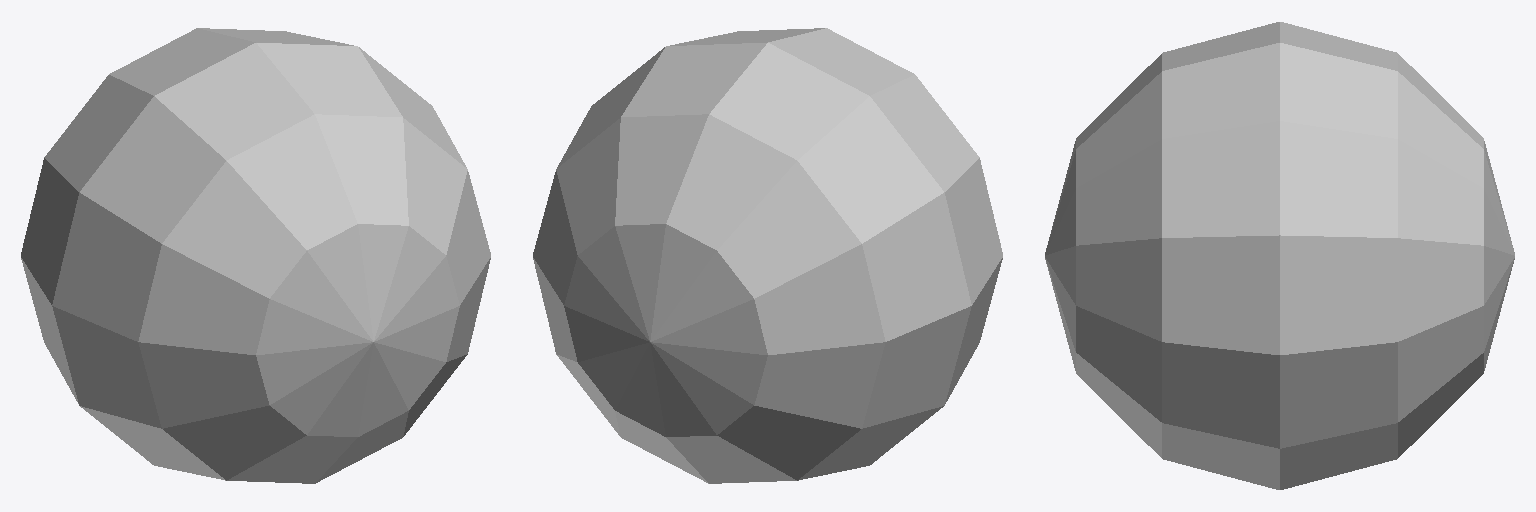
The model's file is serpent_lure.obj.
3 renders of one model, left to right at view 1: azimuth 30°, elevation 25°; view 2: azimuth 150°, elevation 25°; view 3: azimuth 270°, elevation 25°, orthographic.
Parts seen in each view (by area): view 1: Lure; view 2: Lure; view 3: Lure.
Boxes of the visible parts, <box> form: Lure: <box>21,28,490,483</box>; Lure: <box>533,28,1002,483</box>; Lure: <box>1045,22,1514,489</box>.
Size of the model in its own units: 0.6 by 0.6 by 0.6.